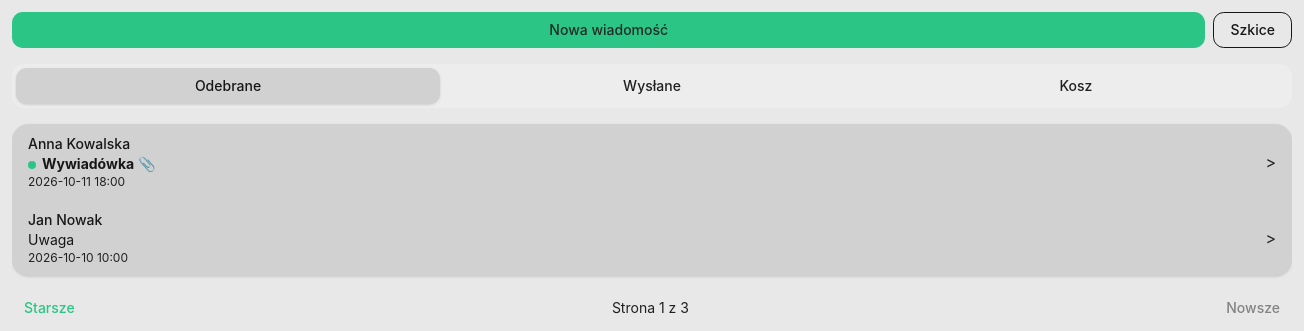
Scenario: MessagesScreen — kosz wymaga potwierdzenia trwałego usunięcia › Anuluj przerywa trwałe usuwanie
Click the button "Kosz" at (1076, 86), box [864, 68, 1288, 104]
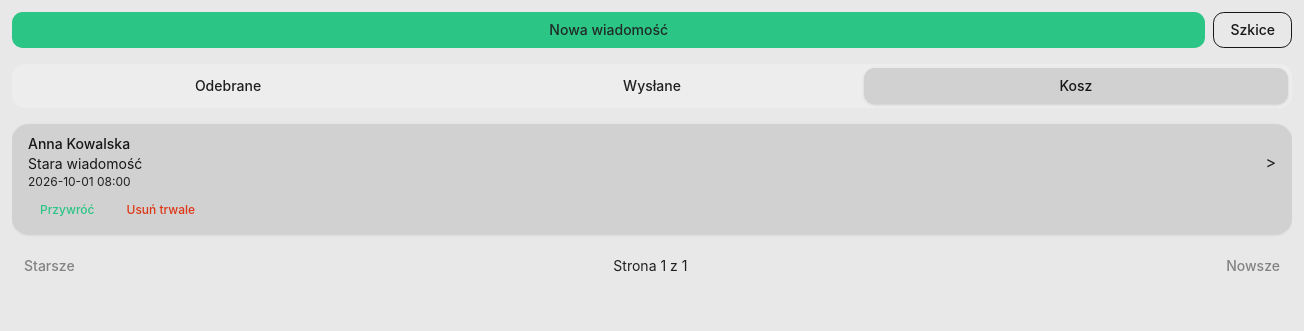
Expected: the text "Stara wiadomość" is shown, [28, 154, 142, 174]
Click the button "Usuń trwale" at (161, 210), box [114, 196, 207, 224]
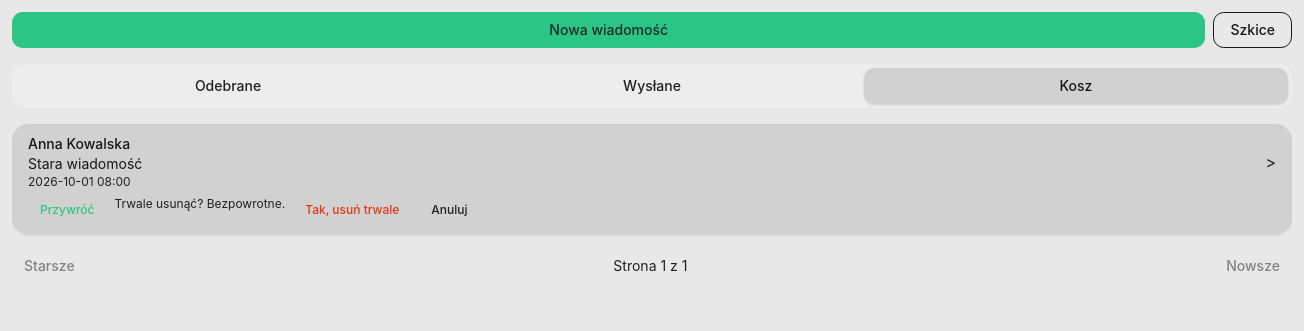
Click the button "Anuluj" at (449, 210), box [419, 196, 480, 224]
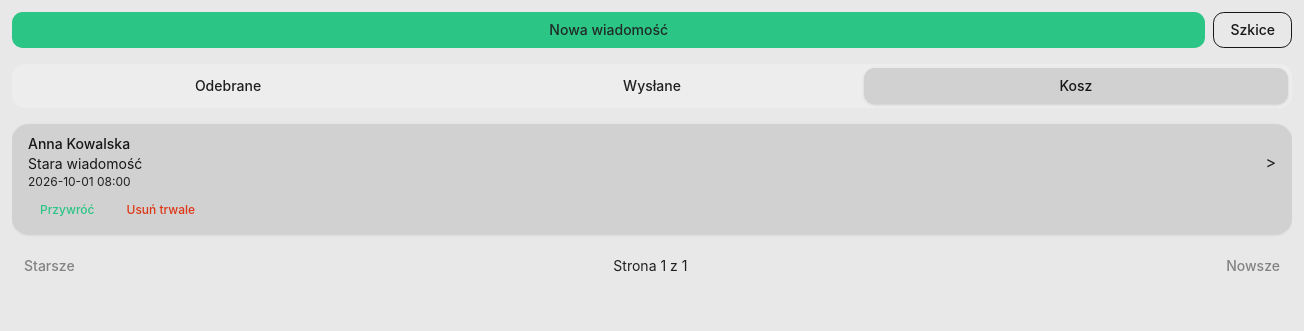
Expected: the text "Trwale usunąć? Bezpowrotne." is gone
